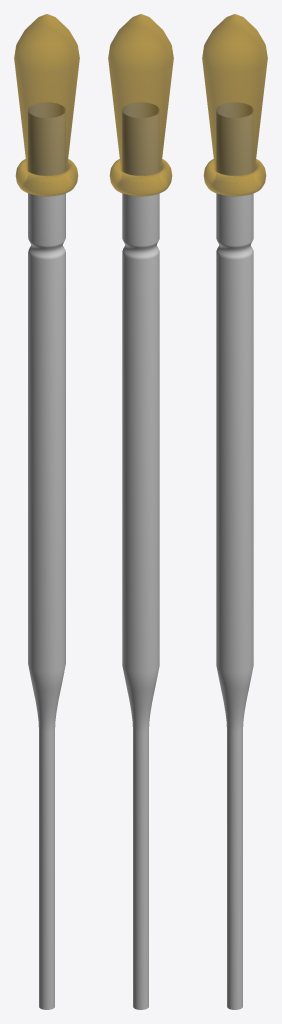
The model's file is Pasteurpipette.gltf.
The picture shows the model from 3 angles, left to right: view 1: azimuth 90°, elevation 25°; view 2: azimuth 150°, elevation 25°; view 3: azimuth 330°, elevation 25°; orthographic projection.
Visible parts, largest first — view 1: Cylinder.240, Torus.008; view 2: Cylinder.240, Torus.008; view 3: Cylinder.240, Torus.008.
Boxes of the visible parts, left/top/right/bottom form: Cylinder.240: left=28, top=102, right=65, bottom=1009; Torus.008: left=14, top=14, right=79, bottom=196; Cylinder.240: left=122, top=102, right=159, bottom=1009; Torus.008: left=108, top=14, right=173, bottom=196; Cylinder.240: left=216, top=102, right=253, bottom=1009; Torus.008: left=202, top=14, right=267, bottom=196.
Bounding box in the file's own units: 0.0159 × 0.2647 × 0.0159.
